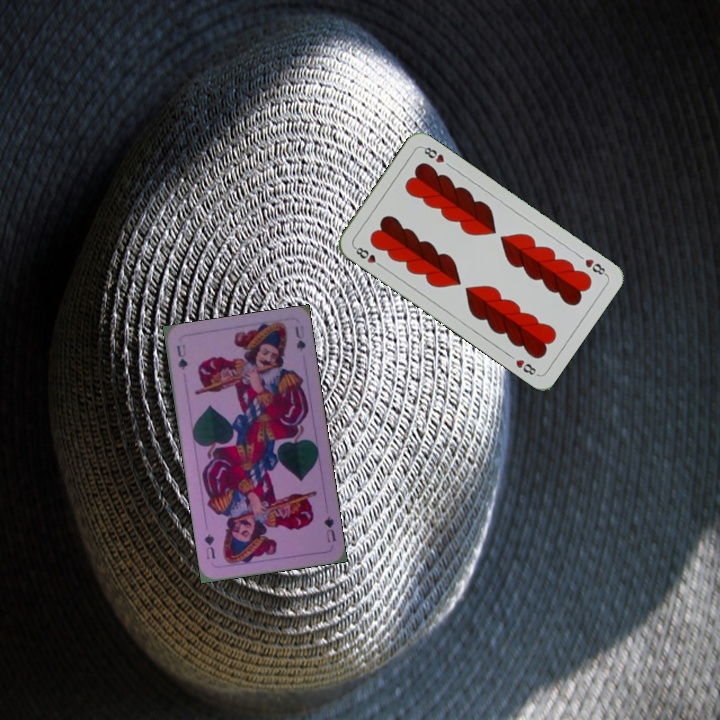GU: (320, 512, 338, 545), (172, 340, 190, 372)
H8: (350, 242, 386, 270), (581, 254, 610, 278)
